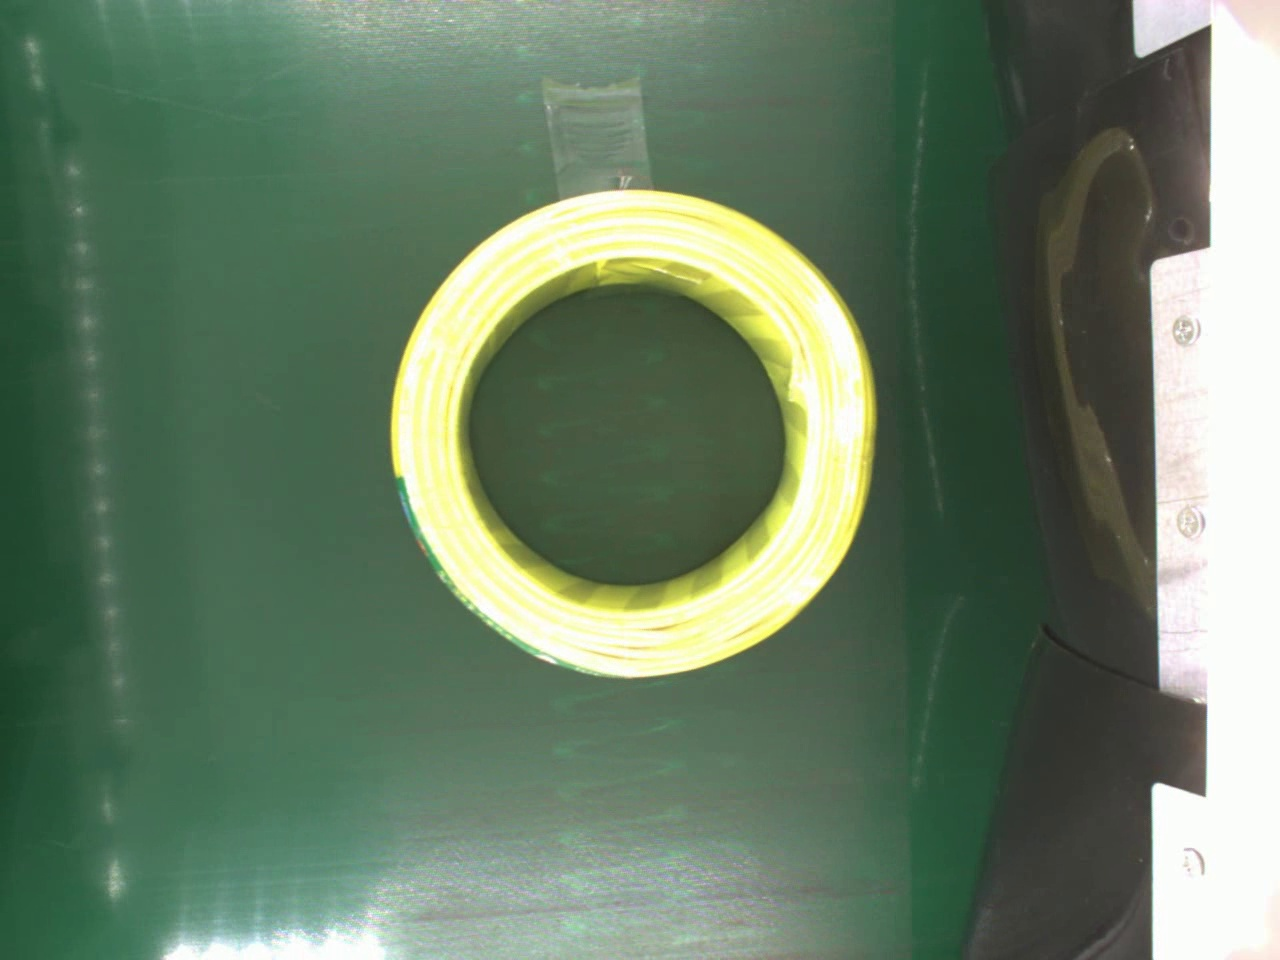yellow: (383, 182, 884, 687)
